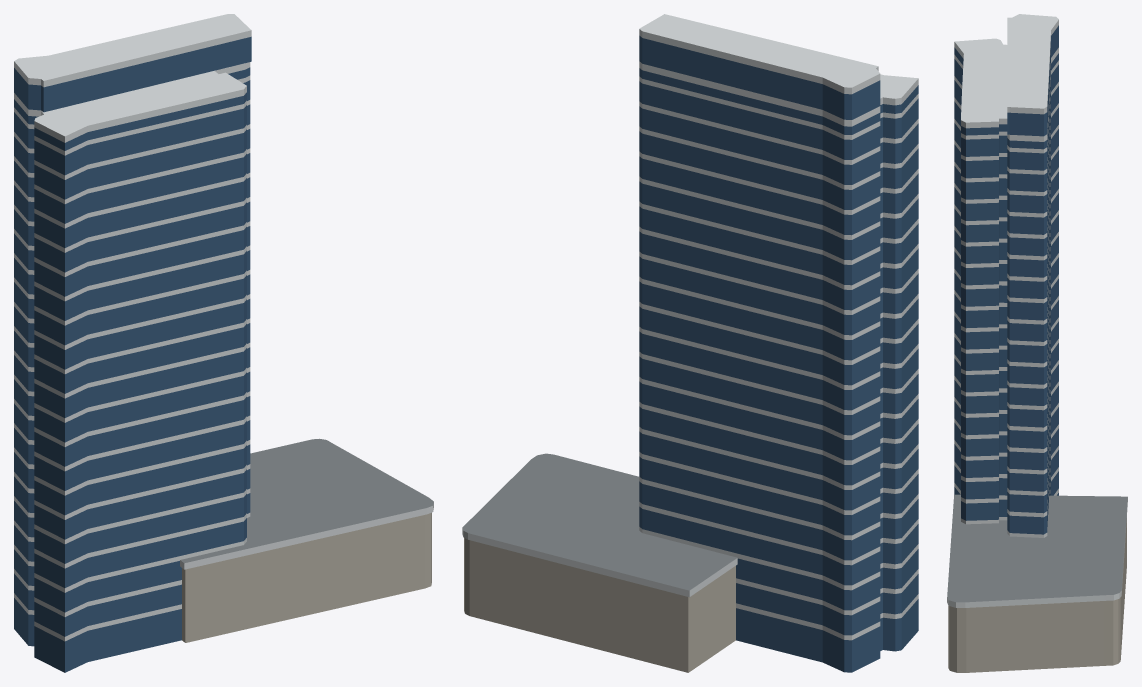
File: the_martin.glb
3 views of the same model, side by side, from view 1: azimuth 30°, elevation 25°; view 2: azimuth 150°, elevation 25°; view 3: azimuth 270°, elevation 25° (orthographic). The views are drawn at different scales.
Visible parts, largest first — view 1: Tower; view 2: Tower; view 3: Tower.
Part boxes in pixels (x1,y1,x2,y2): Tower: (14,14,433,672); Tower: (462,14,918,672); Tower: (947,14,1127,672).
Size of the model in its own units: 110 by 159 by 52.02.
